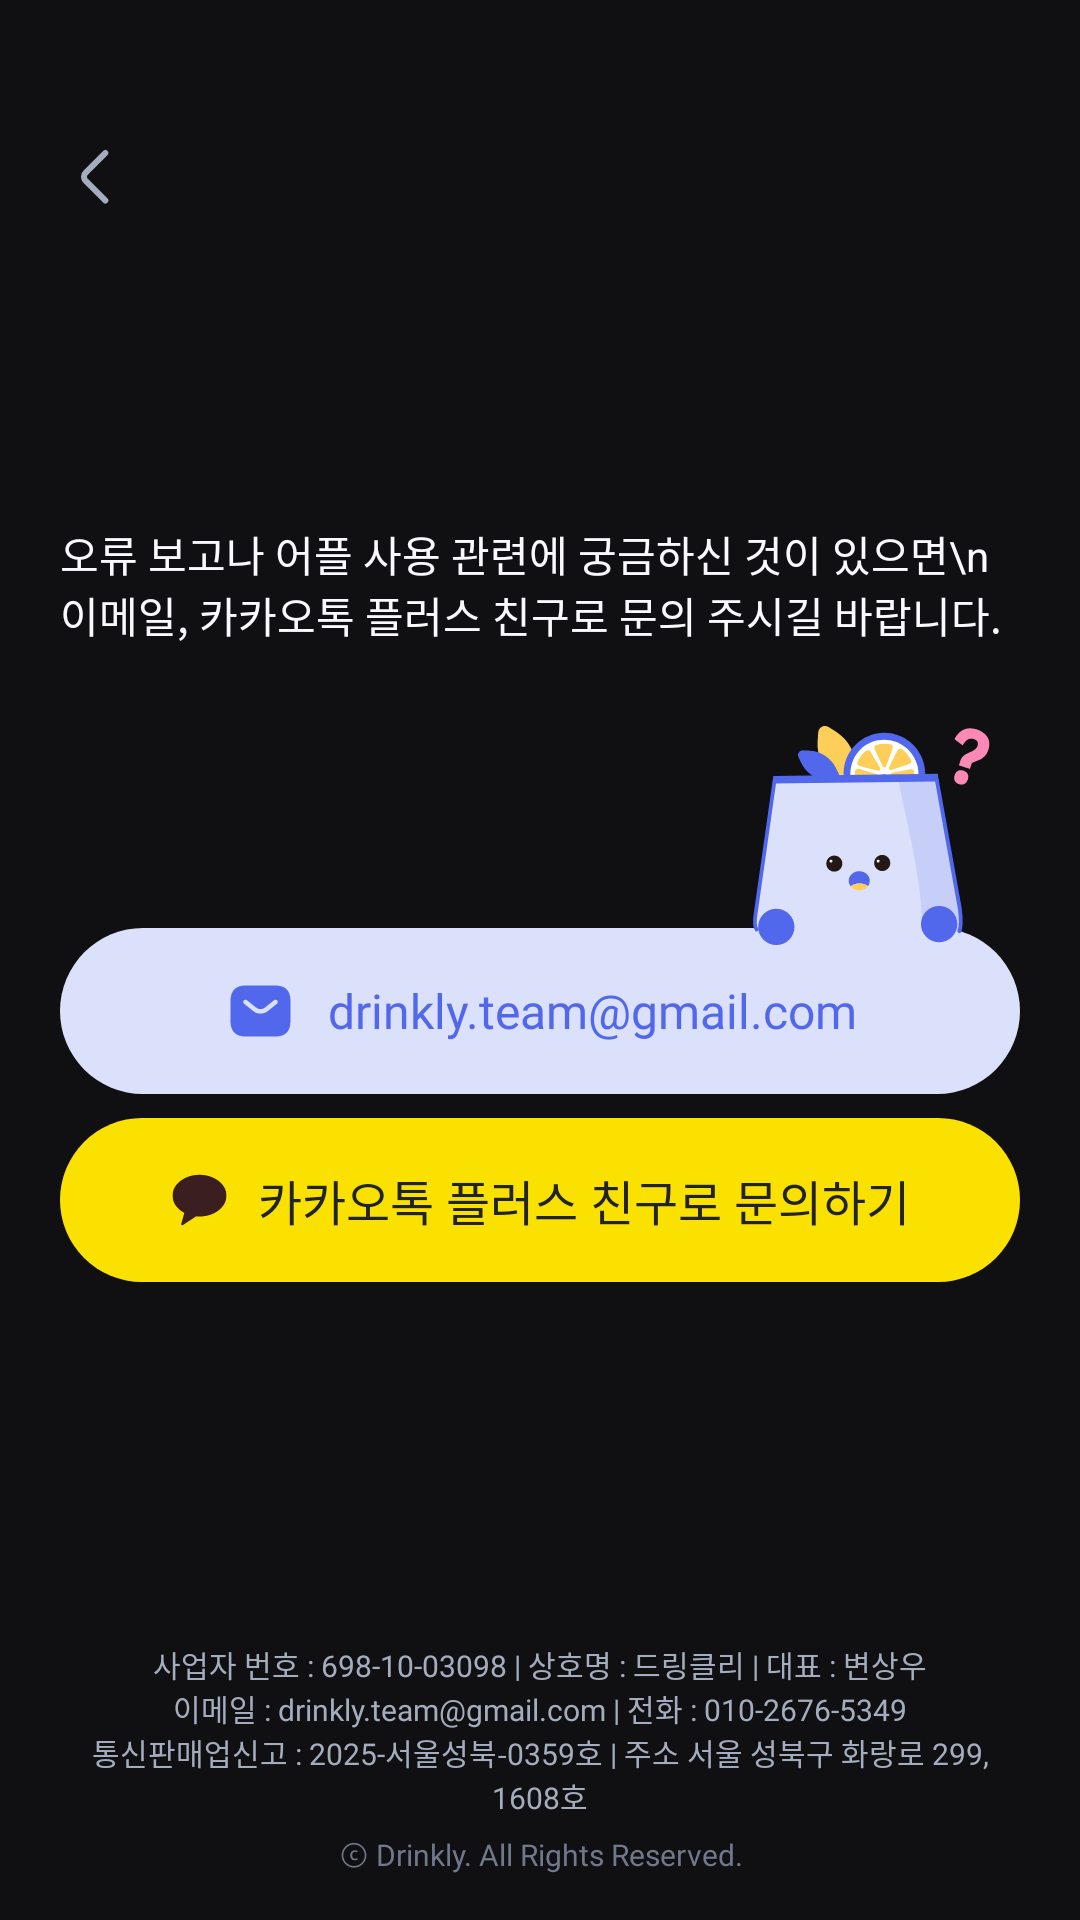

Point at icon controls on the screen. Image size 1080w x 1920h, points as [x,y].
arrow left: [95,177]
character qna: [863,837]
email: [260,1011]
